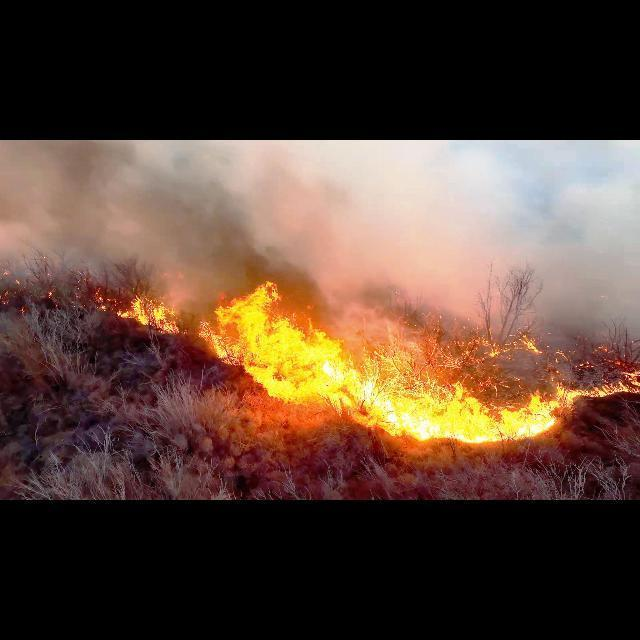Fire: (220, 287, 338, 401), (327, 342, 445, 436), (440, 375, 556, 461), (102, 284, 182, 340), (453, 322, 553, 366), (558, 358, 640, 408)
Smoke: (0, 140, 280, 268)
